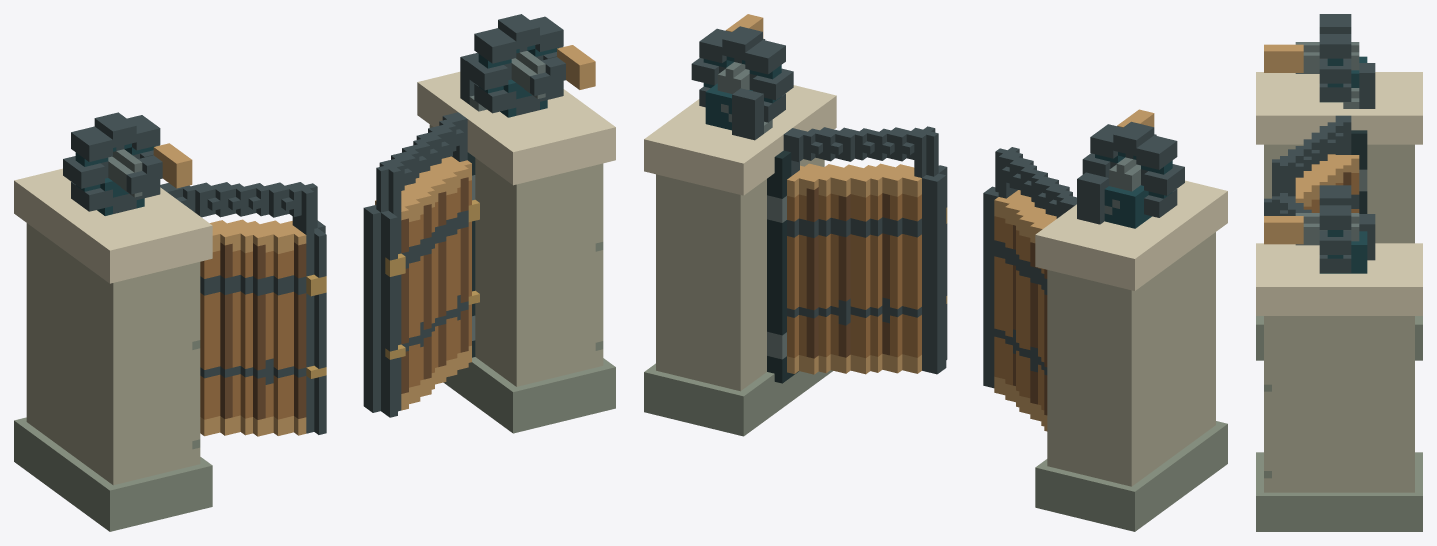
Rendered from lock_gate.glb.
3 views of the same model, side by side, from view 1: azimuth 30°, elevation 25°; view 2: azimuth 150°, elevation 25°; view 3: azimuth 270°, elevation 25° (orthographic). The views are drawn at different scales.
Parts seen in each view (by area): view 1: lock_gate; view 2: lock_gate; view 3: lock_gate.
Boxes of the visible parts, x1=… form: lock_gate: x1=14, y1=14, x2=615, y2=531; lock_gate: x1=644, y1=14, x2=1227, y2=531; lock_gate: x1=1256, y1=14, x2=1422, y2=531.
Bounding box in the file's own units: 7.68 × 5.28 × 2.52.
